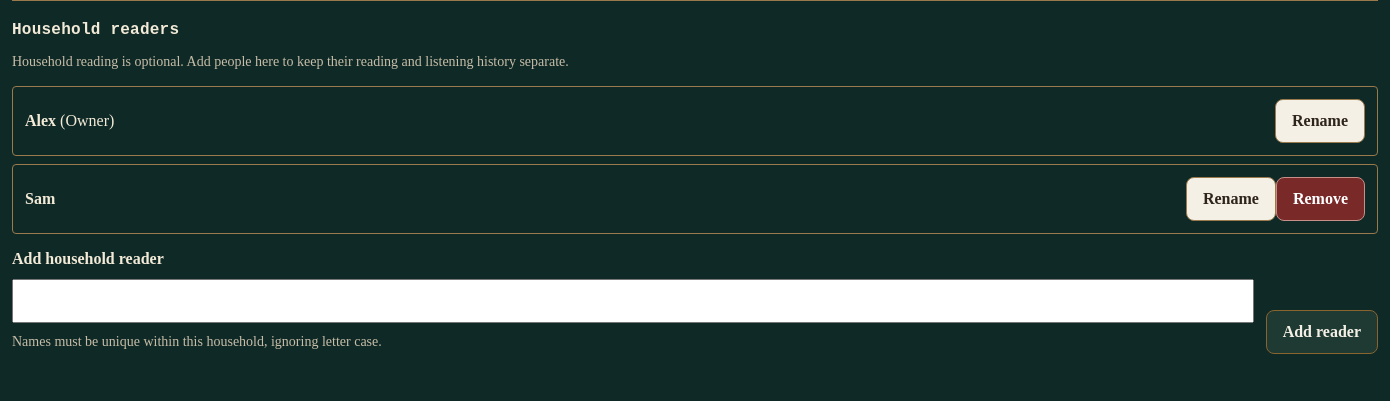
HouseholdReadersSettings › rejects case-insensitive duplicate names before mutating
This screenshot has width=1390, height=401.
Type " sam " into the field labelled "Add household reader" at (633, 301), box [12,279,1254,323]
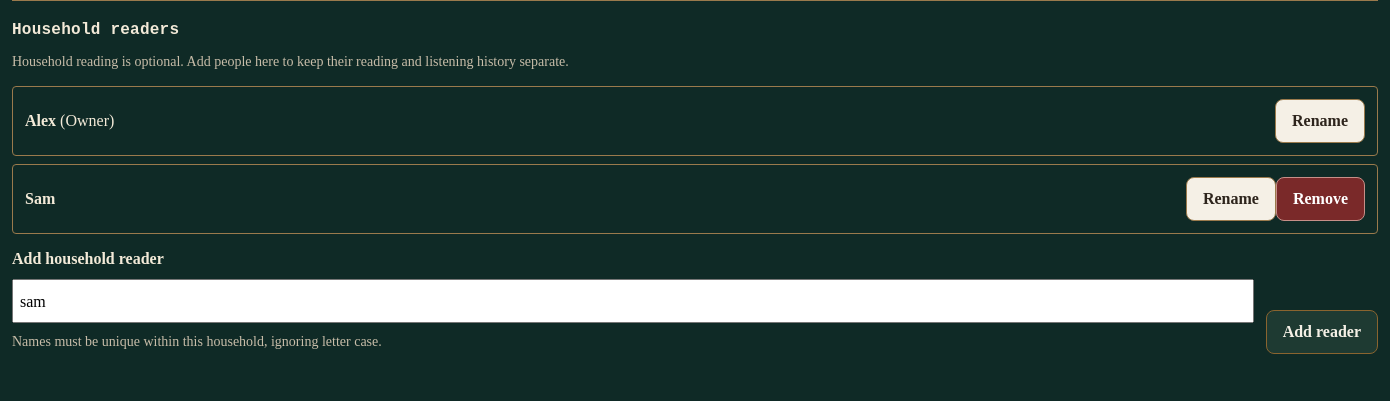
Click the button "Add reader" at (1322, 332), box [1266,310,1378,354]
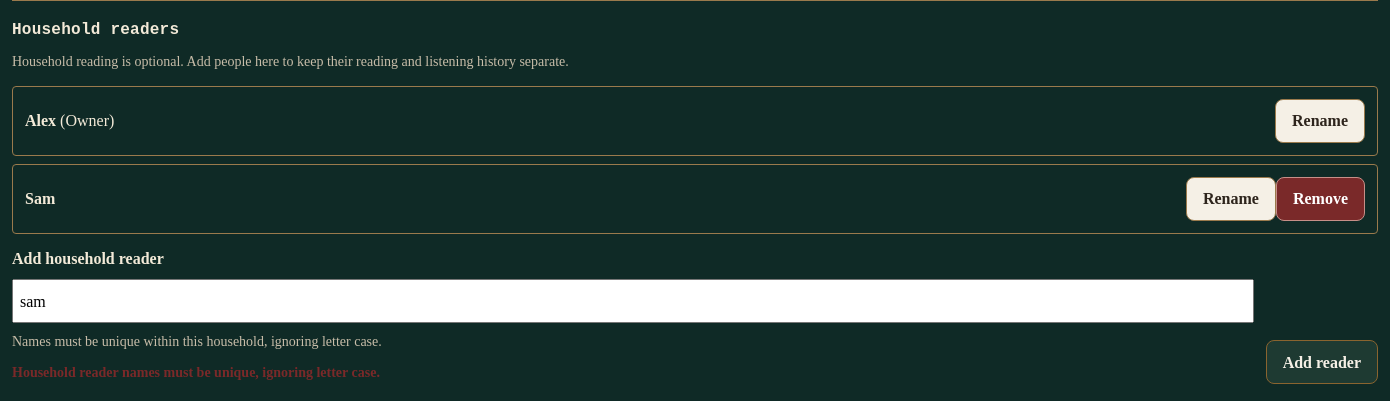
Check: the text "Household reader names must be unique, ignoring letter case." is shown, box [12,365,380,380]
